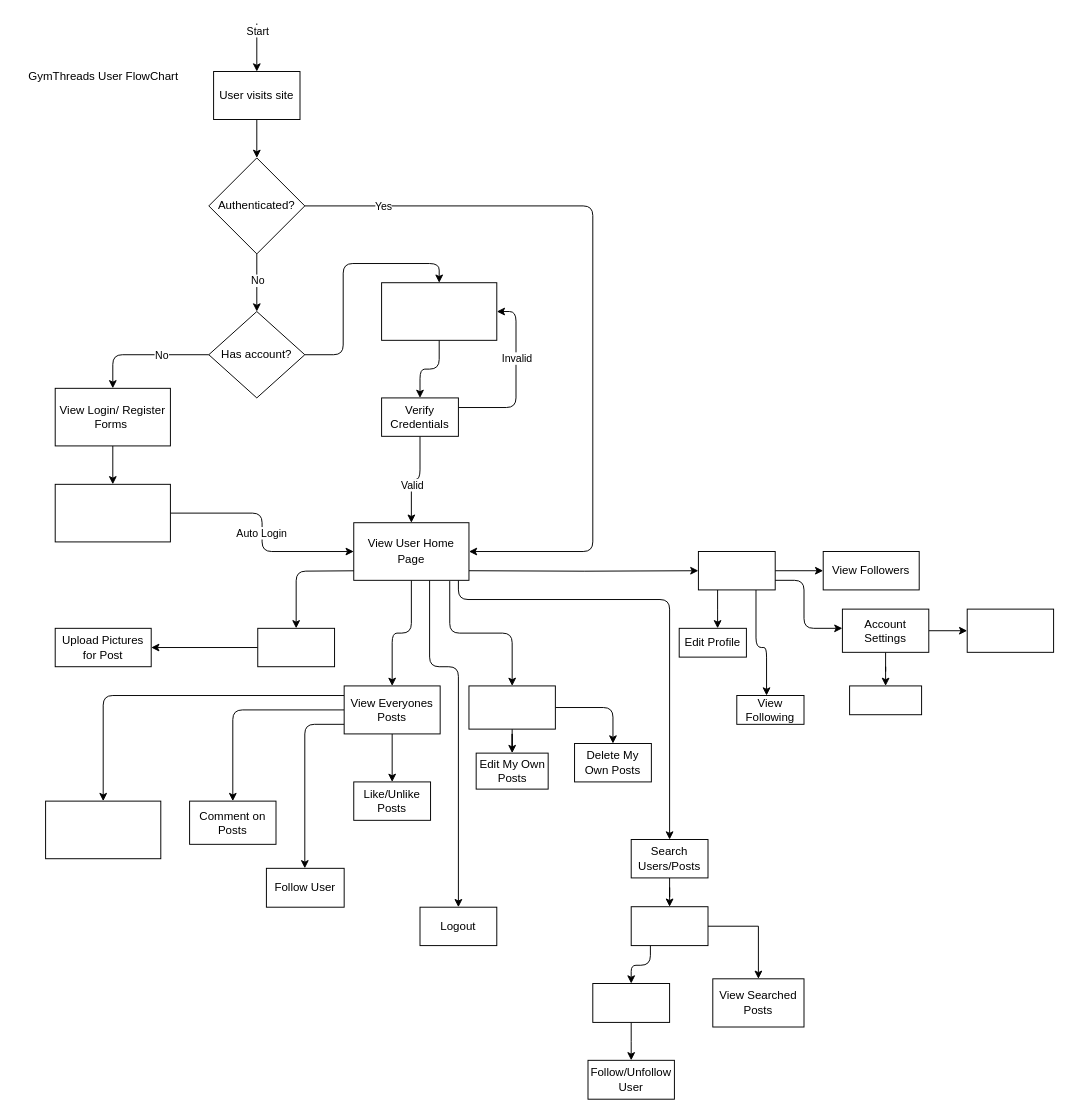
This 1070x1116 diagram has some shape labels left out. The shapes that lost their labels are listed below. From the top down, each one's centre as x and y in pixels, then its label:
At (439,311): "Login with username & password".
At (112,512): "Register Account".
At (736,570): "View Profile".
At (296,647): "Create a new post".
At (1010,630): "Change Password".
At (511,707): "View My Own Posts".
At (885,700): "Add/Edit Profile pic".
At (103,829): "Like/Unlike Comments on Posts".
At (669,926): "View Search Results".
At (631,1002): "Visit User Profile".
